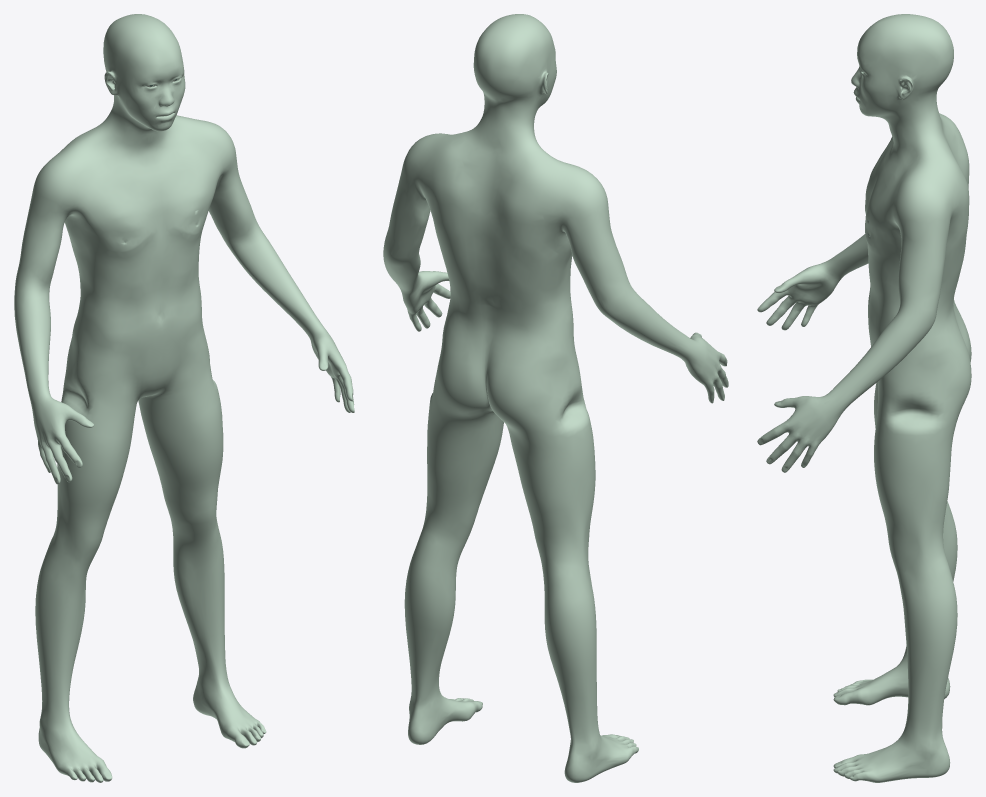
Rendered from adult-male-v2.glb.
3 views of the same model, side by side, from view 1: azimuth 30°, elevation 25°; view 2: azimuth 150°, elevation 25°; view 3: azimuth 270°, elevation 25° (orthographic).
Visible parts, largest first — view 1: TeachingBody; view 2: TeachingBody; view 3: TeachingBody.
Part boxes in pixels (box(x1,y1,x2,y2)): TeachingBody: box(14, 14, 354, 782); TeachingBody: box(383, 14, 728, 782); TeachingBody: box(757, 14, 971, 782).
Size of the model in its own units: 0.78 by 1.78 by 0.4793.
